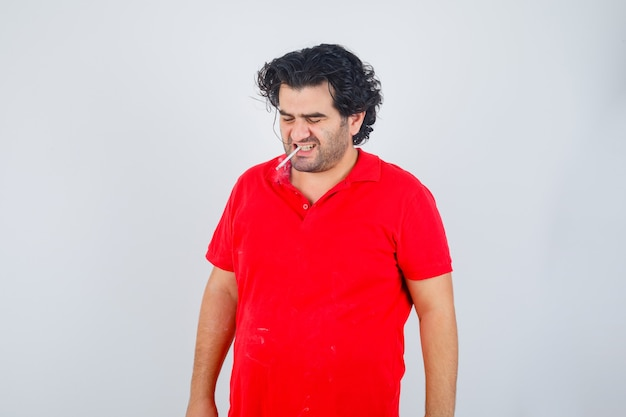cigarette: (275, 144, 301, 171)
